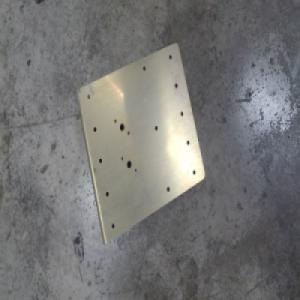MetalSheet: (74, 40, 205, 248)
